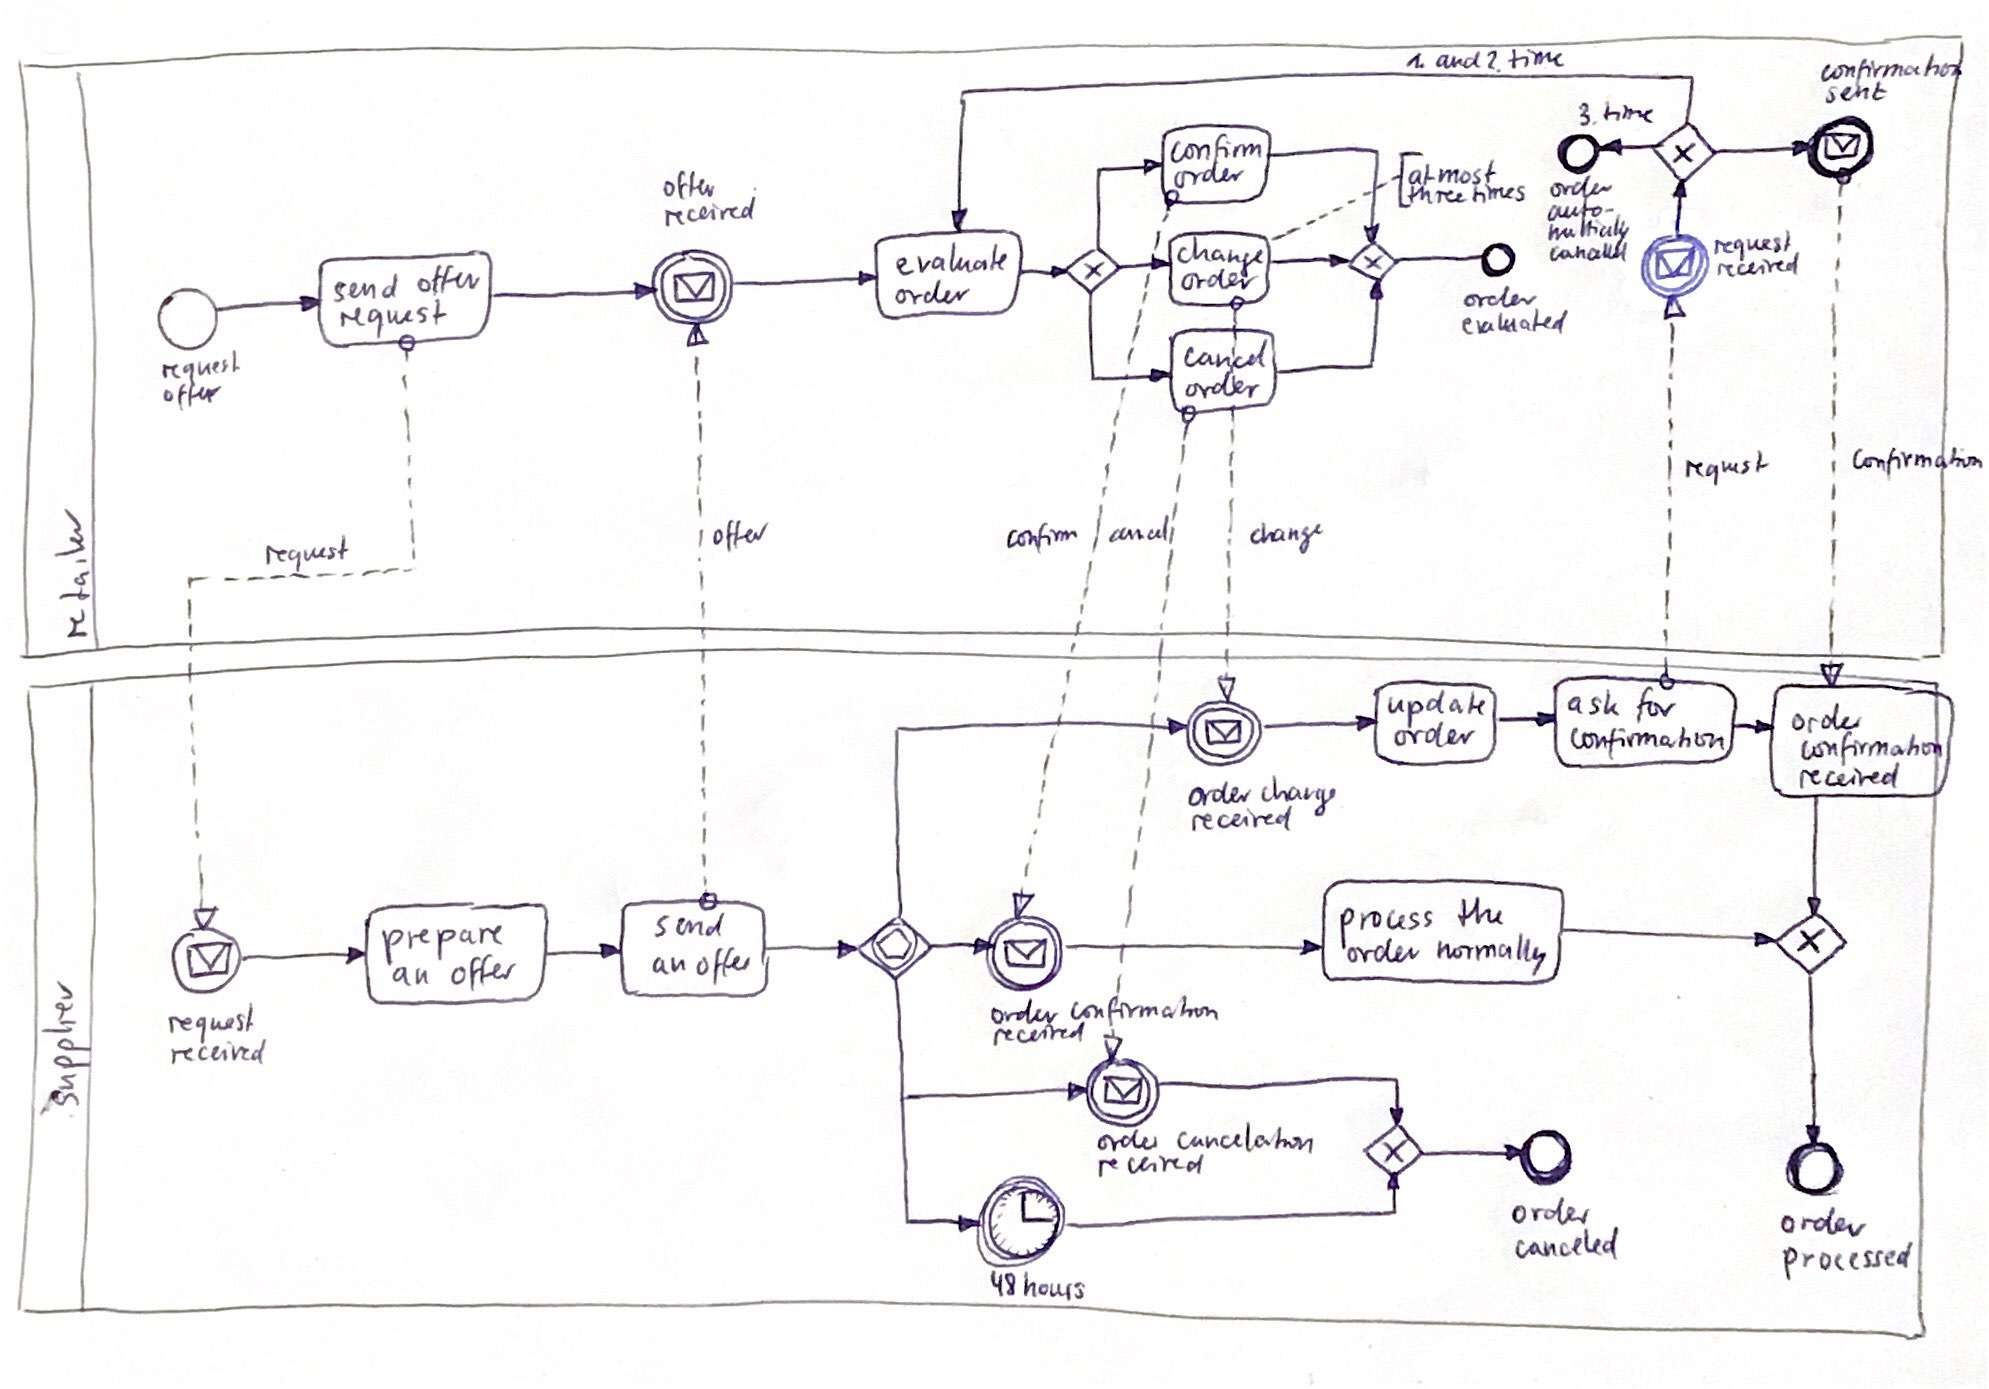1.: (1409, 48, 1425, 73)
2.: (1481, 44, 1504, 74)
3.: (1579, 101, 1598, 125)
48: (988, 1270, 1019, 1301)
Confirmation: (1845, 447, 1987, 479)
Processed: (1777, 1239, 1919, 1282)
almost: (1406, 154, 1496, 196)
an: (650, 949, 691, 981), (394, 961, 432, 988)
and: (1103, 518, 1165, 546), (1437, 48, 1480, 73)
ask: (1567, 691, 1626, 722)
auto-: (1548, 200, 1613, 224)
cancel: (1180, 342, 1270, 372)
cancelation: (1174, 1126, 1316, 1156)
canceled: (1511, 1230, 1622, 1264)
change: (1171, 234, 1267, 274), (1244, 517, 1322, 552)
charge: (1254, 778, 1336, 812)
confirm: (1168, 135, 1264, 165), (1001, 518, 1076, 547)
confirmation: (1067, 995, 1223, 1026), (1569, 727, 1731, 756), (1799, 735, 1945, 765), (1820, 54, 1963, 82)
controlled: (1548, 240, 1629, 264)
evaluate: (893, 246, 1010, 283)
evaluated: (1458, 308, 1570, 340)
for: (1631, 691, 1678, 724)
hours: (1022, 1273, 1088, 1304)
matically: (1549, 216, 1629, 243)
normally: (1437, 937, 1551, 972)
offer: (159, 376, 230, 411), (707, 515, 772, 553), (450, 957, 518, 991), (416, 264, 484, 299), (694, 946, 754, 981), (662, 175, 719, 200)
order: (1779, 1208, 1867, 1239), (1508, 1199, 1592, 1230), (1183, 373, 1267, 405), (892, 278, 972, 308), (1394, 724, 1477, 751), (1462, 286, 1545, 313), (1180, 266, 1259, 295), (988, 998, 1063, 1028), (1344, 937, 1421, 966), (1186, 778, 1250, 813), (1094, 1128, 1170, 1155), (1789, 706, 1861, 735), (1174, 165, 1244, 189), (1549, 177, 1611, 203)
prepare: (382, 920, 506, 963)
process: (1335, 899, 1448, 942)
received: (659, 195, 762, 230), (1186, 809, 1300, 834), (1094, 1153, 1205, 1179), (168, 1041, 271, 1067), (1799, 765, 1901, 790), (991, 1022, 1088, 1049), (1714, 255, 1802, 281)
request: (337, 299, 447, 334), (1681, 449, 1771, 487), (165, 1007, 258, 1041), (261, 537, 352, 571), (157, 354, 242, 385), (1709, 231, 1793, 260)
retailer: (51, 508, 89, 642)
send: (329, 271, 407, 304), (651, 911, 728, 942)
sent: (1824, 82, 1889, 104)
supplier: (44, 979, 86, 1111)
the: (1452, 895, 1505, 933)
three: (1409, 178, 1466, 210)
time: (1505, 47, 1567, 71), (1601, 101, 1656, 125)
times: (1465, 178, 1527, 210)
update: (1389, 692, 1487, 722)
